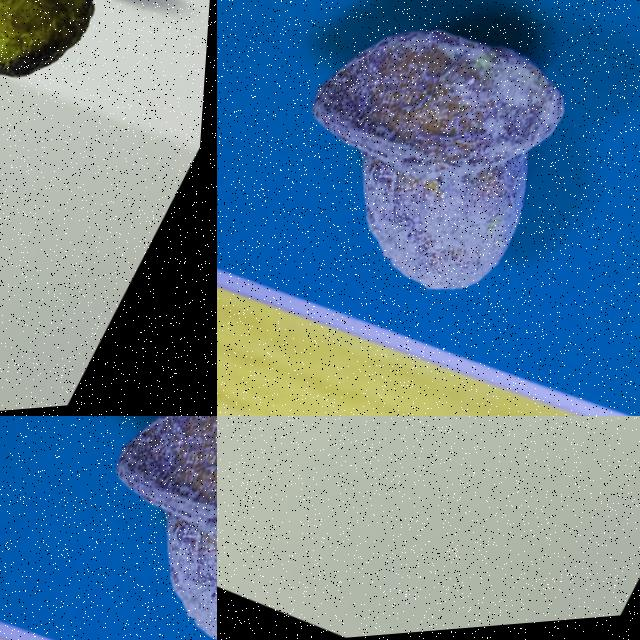Agglomerated_cocoabeans: (217, 0, 639, 409), (0, 416, 216, 639)
Fine_cocoabeans: (0, 0, 181, 174)
